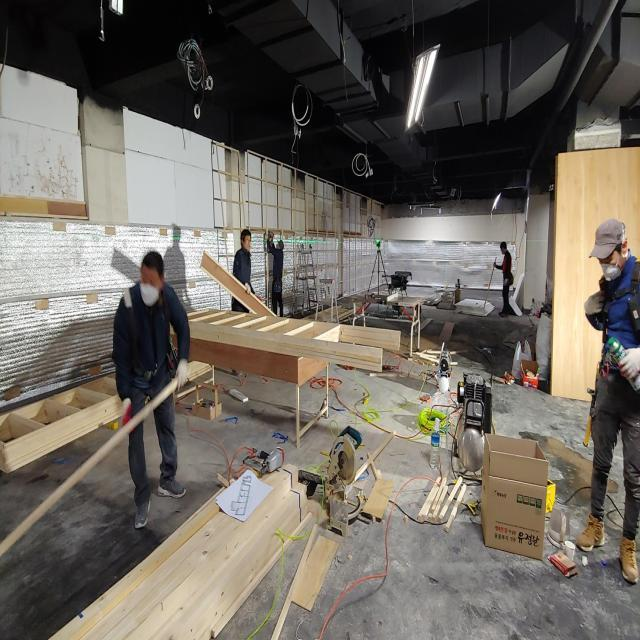board: (292, 535, 340, 612), (362, 478, 395, 520)
stud: (247, 149, 385, 318), (170, 308, 400, 372), (0, 372, 123, 472)
wood: (100, 462, 298, 640), (0, 378, 178, 556), (149, 481, 308, 640), (271, 523, 317, 640), (438, 476, 462, 523), (445, 483, 467, 533), (418, 476, 441, 522), (432, 468, 449, 514), (422, 486, 439, 521), (432, 485, 448, 522)
